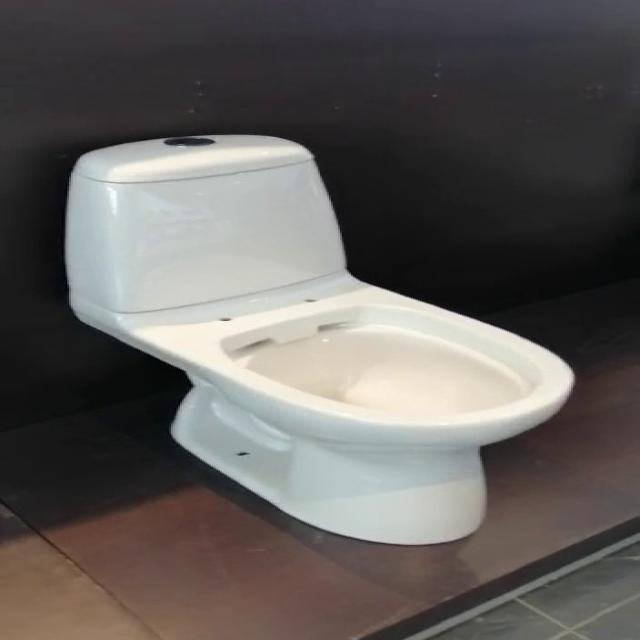toilet: (62, 133, 574, 545)
